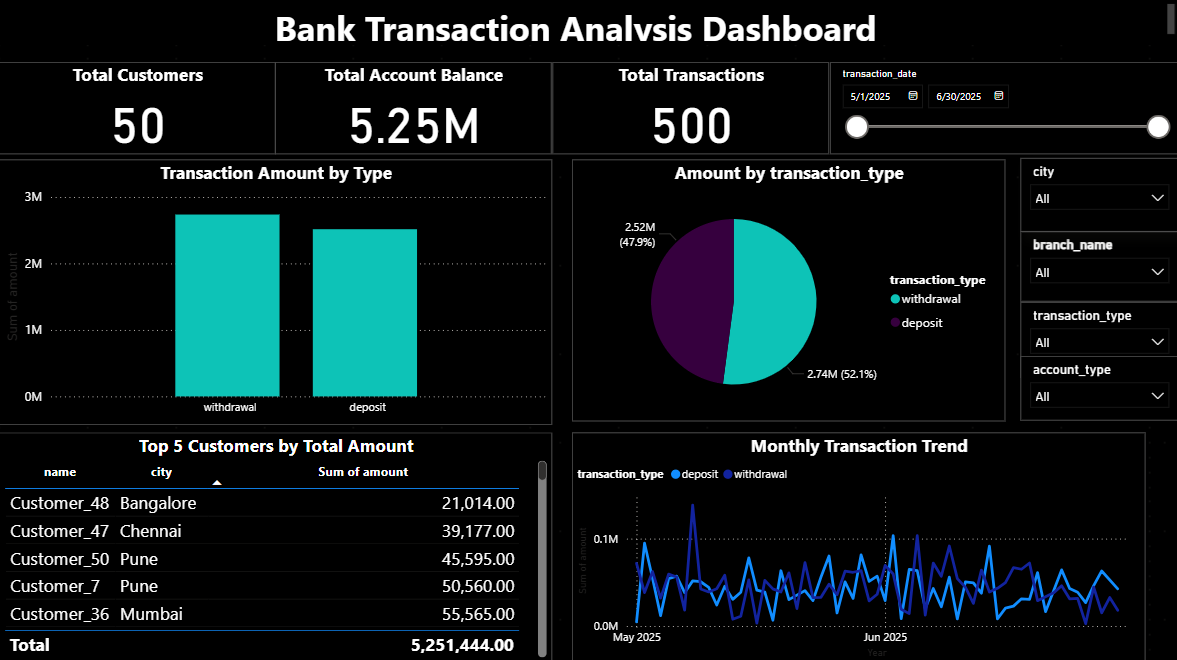

What the dashboard file says about the page in this screenshot:
{"tool":"powerbi","page":{"name":"Page 1","canvas":[1280,720],"ordinal":0},"visuals":[{"type":"card","title":"Total Account Balance","fields":{"Values":["bank_transaction_analysis transactions.amount"]},"box":[300,68,300,100],"z":0},{"type":"card","title":"Total Customers","fields":{"Values":["bank_transaction_analysis customers.customer_id"]},"box":[0,68,300,100],"z":1000},{"type":"card","title":"Total Transactions","fields":{"Values":["bank_transaction_analysis transactions.transaction_id"]},"box":[600,68,300,100],"z":2000},{"type":"columnChart","title":"Transaction Amount by Type","fields":{"Category":["bank_transaction_analysis transactions.transaction_type"],"Y":["bank_transaction_analysis transactions.amount"]},"box":[0,174,600,288],"z":3000},{"type":"lineChart","title":"Monthly Transaction Trend","fields":{"Series":["bank_transaction_analysis transactions.transaction_type"],"Y":["bank_transaction_analysis transactions.amount"],"Category":["bank_transaction_analysis transactions.transaction_date.Variation.Date Hierarchy.Year","bank_transaction_analysis transactions.transaction_date.Variation.Date Hierarchy.Quarter","bank_transaction_analysis transactions.transaction_date.Variation.Date Hierarchy.Month","bank_transaction_analysis transactions.transaction_date.Variation.Date Hierarchy.Day"]},"box":[622,470,622,250],"z":4000},{"type":"tableEx","title":"Top 5 Customers by Total Amount","fields":{"Values":["bank_transaction_analysis customers.name","bank_transaction_analysis customers.city","bank_transaction_analysis transactions.amount"]},"box":[0,470,600,250],"z":5000},{"type":"pieChart","title":"Amount by transaction_type","fields":{"Category":["bank_transaction_analysis transactions.transaction_type"],"Y":["bank_transaction_analysis transactions.amount"]},"box":[622,174,470,284],"z":6000},{"type":"slicer","fields":{"Values":["bank_transaction_analysis accounts.branch_name"]},"box":[1108,252,172,76],"z":7000},{"type":"slicer","fields":{"Values":["bank_transaction_analysis customers.city"]},"box":[1108,172,172,80],"z":8000},{"type":"slicer","fields":{"Values":["bank_transaction_analysis transactions.transaction_type"]},"box":[1108,328,172,82],"z":9000},{"type":"slicer","fields":{"Values":["bank_transaction_analysis accounts.account_type"]},"box":[1108,388,172,70],"z":10000},{"type":"slicer","fields":{"Values":["bank_transaction_analysis transactions.transaction_date"]},"box":[902,68,378,100],"z":11000},{"type":"textbox","box":[0,0,1280,50],"z":12000}]}

Visuals, with their boxes in screenshot pixels (x1, y1, x2, y2), scaled from the page's 1280x720 canvas onto the 1177x660 screenshot:
"Total Account Balance" card: (276, 62, 552, 154)
"Total Customers" card: (0, 62, 276, 154)
"Total Transactions" card: (552, 62, 828, 154)
"Transaction Amount by Type" columnChart: (0, 160, 552, 424)
"Monthly Transaction Trend" lineChart: (572, 431, 1144, 659)
"Top 5 Customers by Total Amount" tableEx: (0, 431, 552, 659)
"Amount by transaction_type" pieChart: (572, 160, 1004, 420)
slicer - bank_transaction_analysis accounts.branch_name: (1019, 231, 1176, 301)
slicer - bank_transaction_analysis customers.city: (1019, 158, 1176, 231)
slicer - bank_transaction_analysis transactions.transaction_type: (1019, 301, 1176, 376)
slicer - bank_transaction_analysis accounts.account_type: (1019, 356, 1176, 420)
slicer - bank_transaction_analysis transactions.transaction_date: (829, 62, 1176, 154)
textbox: (0, 0, 1176, 46)
